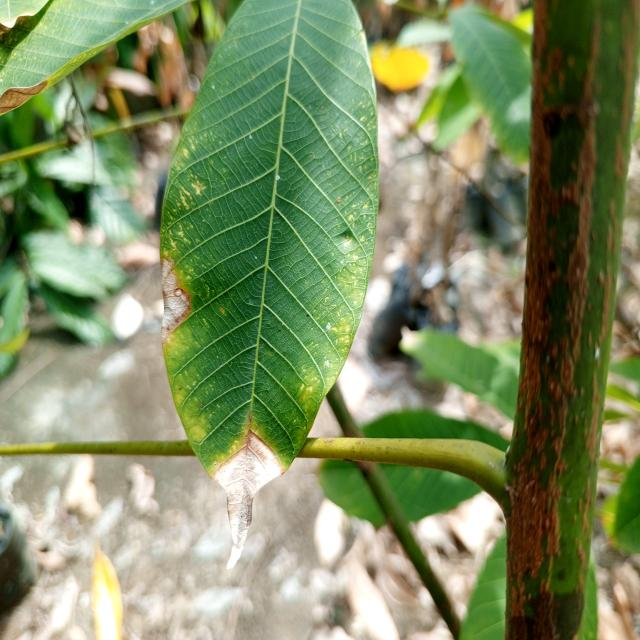Colletotrichum: (174, 288, 182, 297)
Leaf-Blight: (210, 428, 284, 570), (160, 256, 192, 344)
